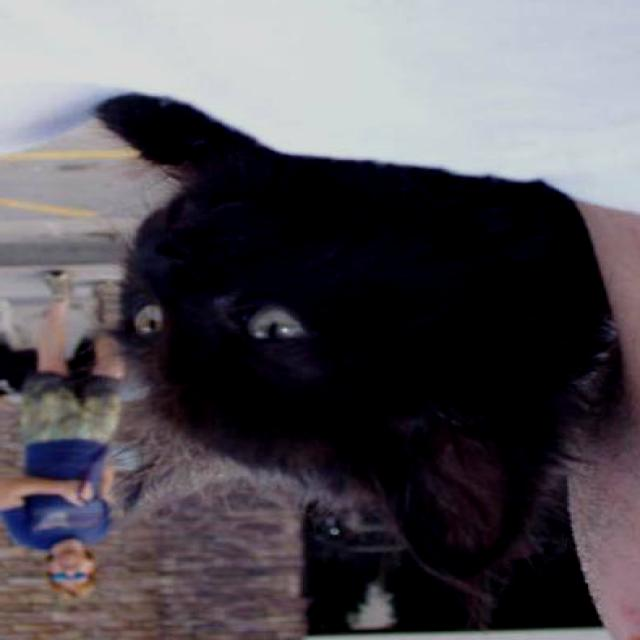Kucing: (32, 37, 640, 640)
